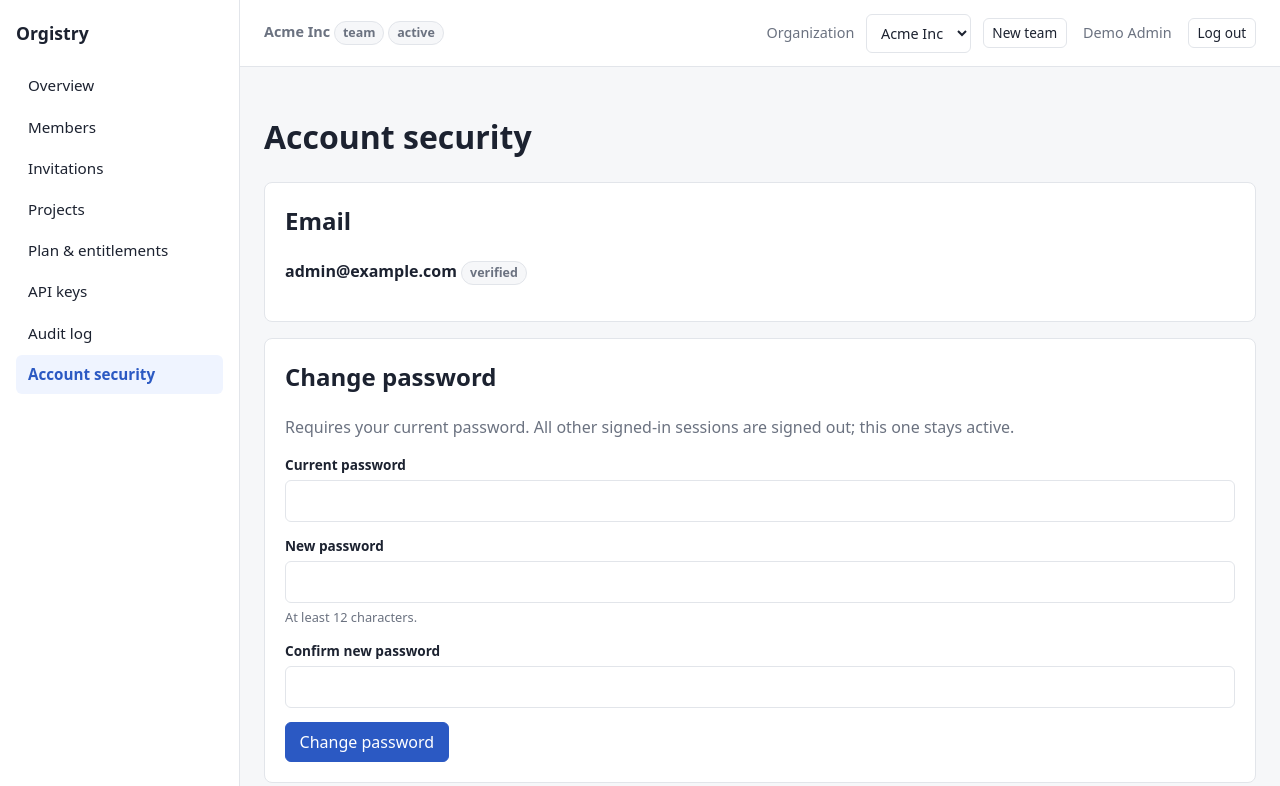
Test: change password › submits the real backend contract and shows success
The width and height of the screenshot is (1280, 786).
Expected: the heading "Account security" is shown, 264,115 -> 532,158
Type "original-password-123" into the password field labelled "Current password". click: [760, 501]
box: 285,480 -> 1235,522
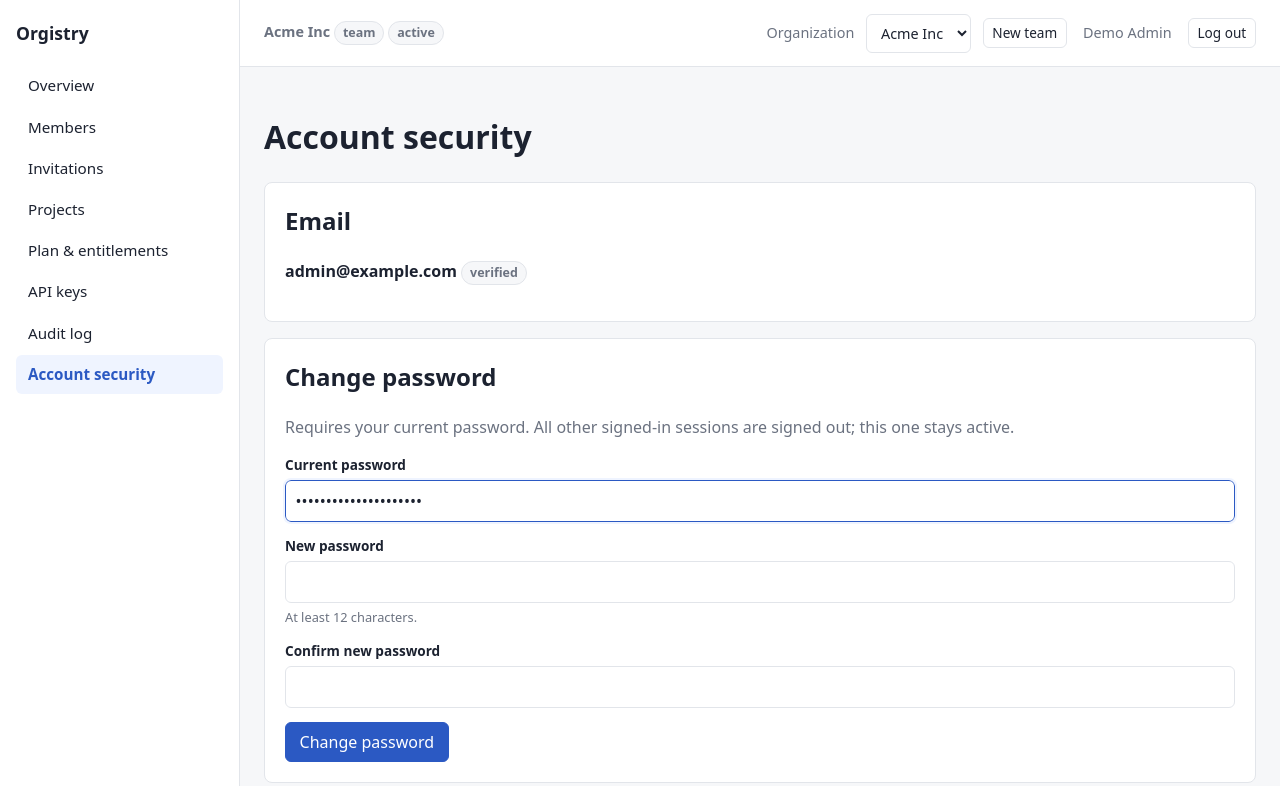
Type "rotated-password-456" into the password field labelled "New password". click: [760, 582]
box: 285,561 -> 1235,603
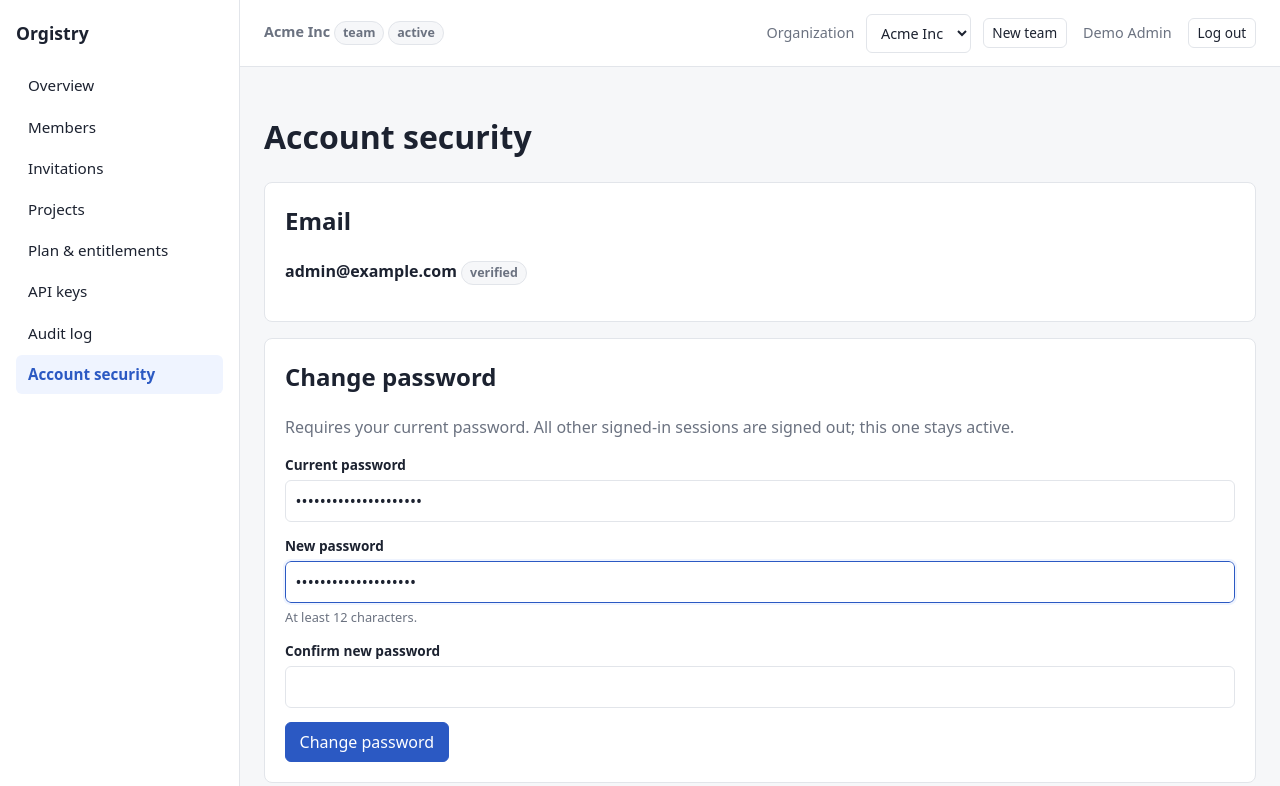
Type "rotated-password-456" into the password field labelled "Confirm new password". click: [760, 687]
box: 285,666 -> 1235,708
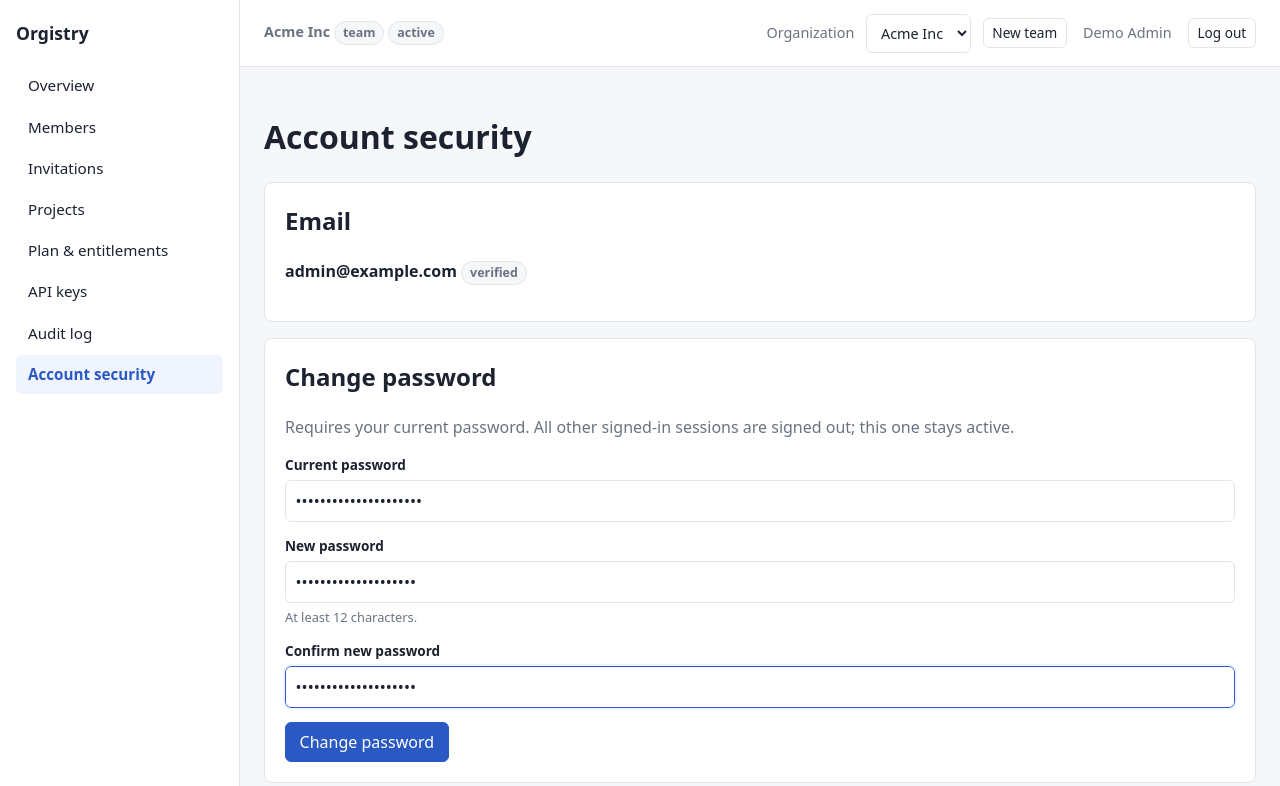
Click the button "Change password". click: [367, 742]
box: 285,722 -> 449,762
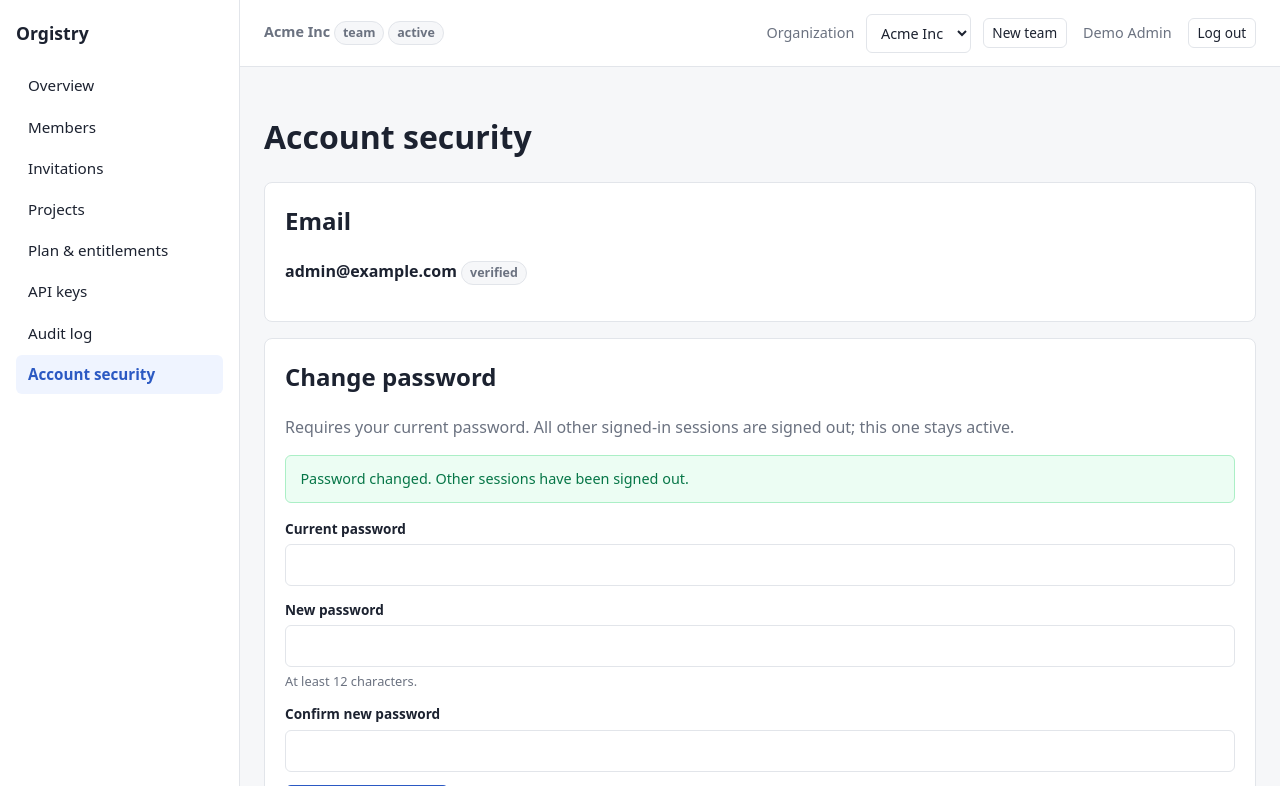
Expected: the text "Password changed. Other sessions have been signed out." is shown, 285,455 -> 1235,503
